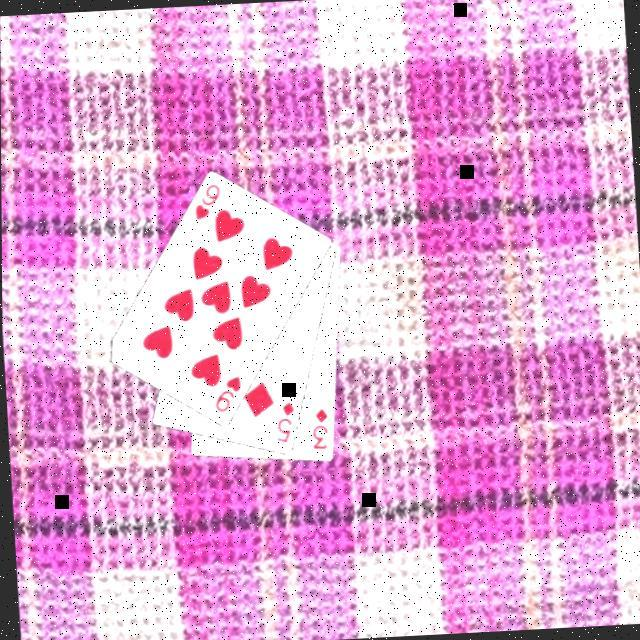3D: (306, 404, 331, 453)
5D: (270, 398, 298, 446)
9H: (208, 371, 244, 415), (189, 179, 223, 223)
